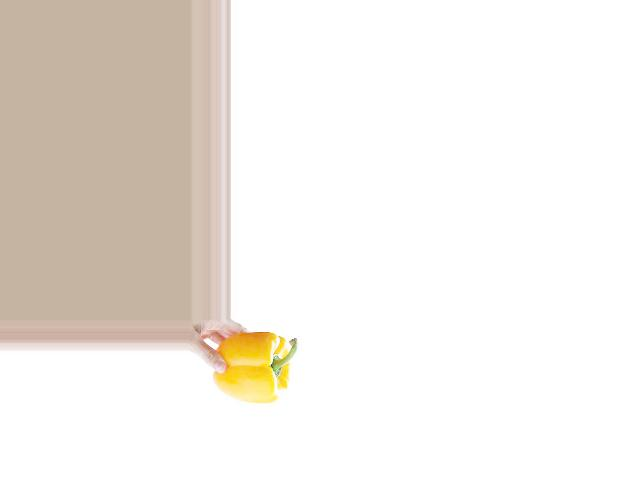bell_pepper: (211, 332, 301, 405)
